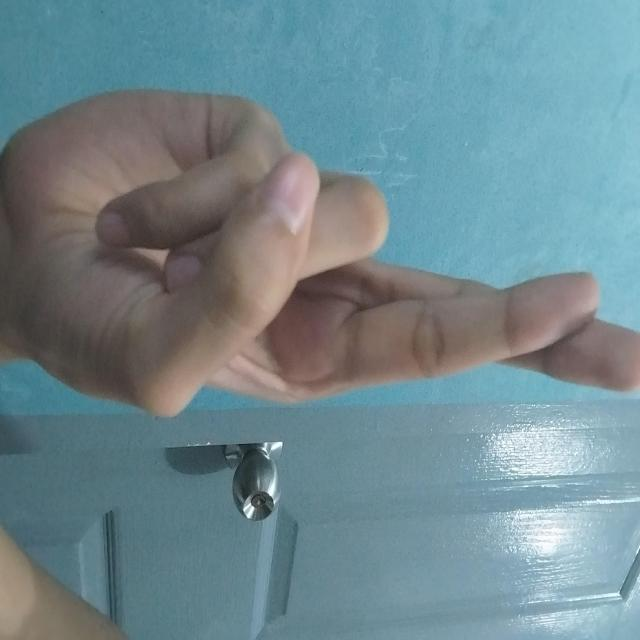R: (86, 0, 422, 638)
